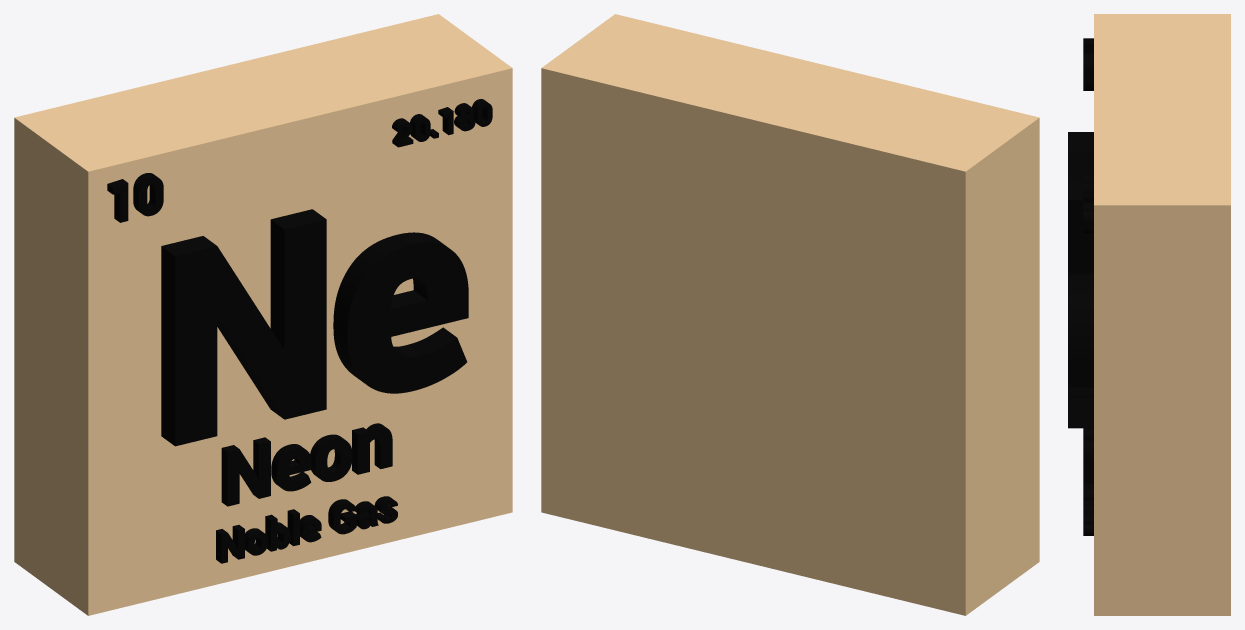
3 views of the same model, side by side, from view 1: azimuth 30°, elevation 25°; view 2: azimuth 150°, elevation 25°; view 3: azimuth 270°, elevation 25° (orthographic). The views are drawn at different scales.
Parts seen in each view (by area): view 1: Cube, Text, Text.001, Text.002, Text.004, Text.003; view 2: Cube; view 3: Cube, Text, Text.004, Text.001, Text.003, Text.002.
Boxes of the visible parts, x1,y1,x2,y2 form: Cube: (14,14,512,615); Text: (161,209,468,446); Text.001: (221,423,392,506); Text.002: (216,496,397,563); Text.004: (392,99,492,147); Text.003: (107,173,163,222); Cube: (541,14,1039,615); Cube: (1094,14,1230,615); Text: (1068,132,1093,428); Text.004: (1083,174,1093,233); Text.001: (1083,428,1093,484); Text.003: (1083,38,1093,90); Text.002: (1083,484,1093,535).
Bounding box in the file's own units: 178 × 178 × 63.95.
